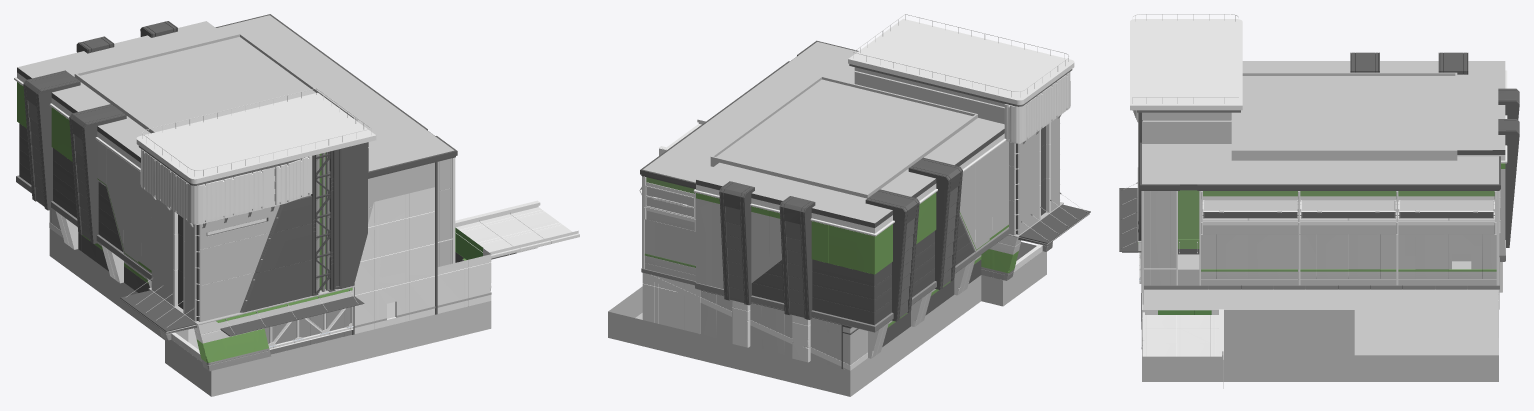
3 views of the same model, side by side, from view 1: azimuth 30°, elevation 25°; view 2: azimuth 150°, elevation 25°; view 3: azimuth 270°, elevation 25° (orthographic). The views are drawn at different scales.
Visible parts, largest first — view 1: SM_H_Building_FutureTech_HOrange_01_ExterWall_01; view 2: SM_H_Building_FutureTech_HOrange_01_ExterWall_01; view 3: SM_H_Building_FutureTech_HOrange_01_ExterWall_01.
Part boxes in pixels (x1,y1,x2,y2): SM_H_Building_FutureTech_HOrange_01_ExterWall_01: [14, 14, 579, 396]; SM_H_Building_FutureTech_HOrange_01_ExterWall_01: [608, 14, 1090, 396]; SM_H_Building_FutureTech_HOrange_01_ExterWall_01: [1119, 14, 1519, 388].
Size of the model in its own units: 2146 by 2475 by 1336.
